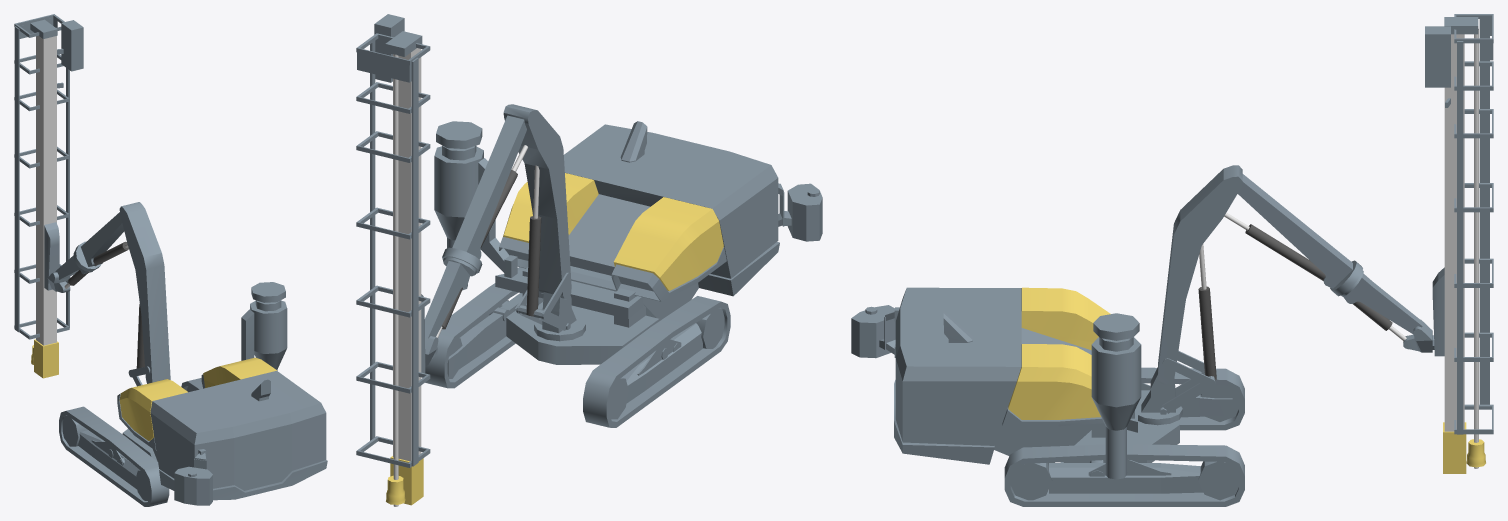
3 views of the same model, side by side, from view 1: azimuth 30°, elevation 25°; view 2: azimuth 150°, elevation 25°; view 3: azimuth 270°, elevation 25° (orthographic). The views are drawn at different scales.
Visible parts, largest first — view 1: T30R_body; view 2: T30R_body; view 3: T30R_body.
Part boxes in pixels (box(x1,y1,x2,y2)): T30R_body: box(14, 14, 327, 506); T30R_body: box(356, 14, 822, 506); T30R_body: box(851, 14, 1493, 506).
Bounding box in the file's own units: 3.42 × 5.72 × 7.39.
